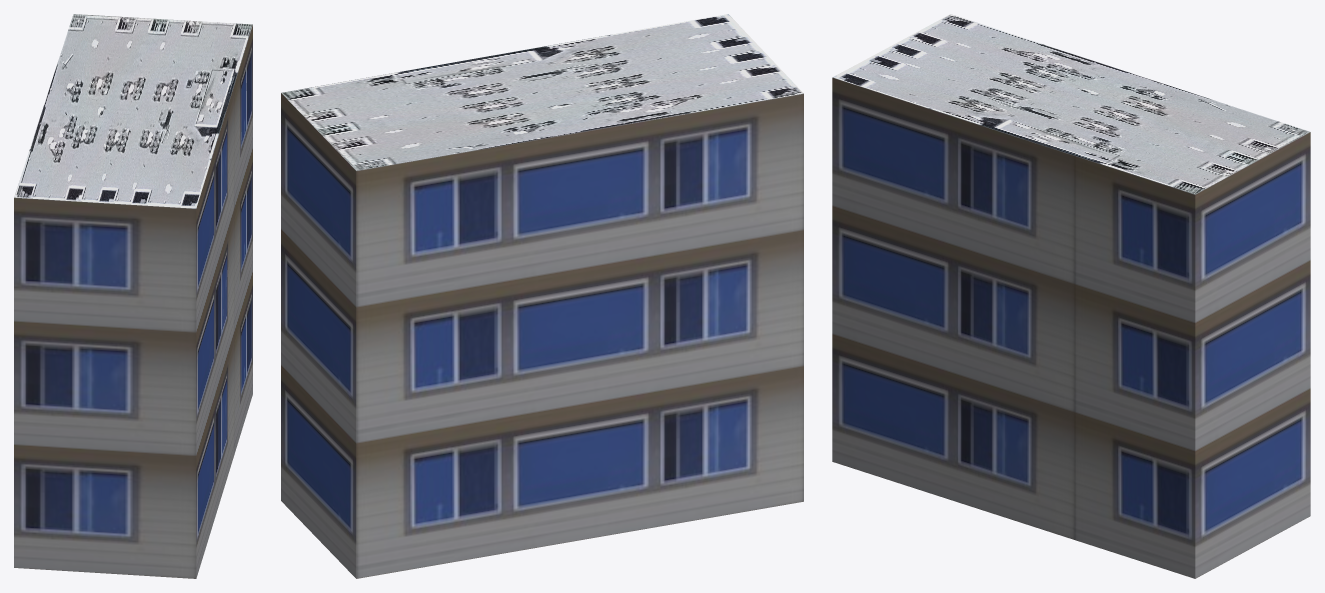
Rendered from ResTex__1960.fbx.
3 renders of one model, left to right at view 1: azimuth 30°, elevation 25°; view 2: azimuth 150°, elevation 25°; view 3: azimuth 270°, elevation 25°, orthographic. The views are drawn at different scales.
Visible parts, largest first — view 1: CityEngineMaterial_23_m, CityEngineMaterial_8_m; view 2: CityEngineMaterial_23_m, CityEngineMaterial_8_m; view 3: CityEngineMaterial_23_m, CityEngineMaterial_8_m.
Part boxes in pixels (bbox=[...]): CityEngineMaterial_23_m: bbox=[14, 25, 252, 578]; CityEngineMaterial_8_m: bbox=[14, 14, 252, 208]; CityEngineMaterial_23_m: bbox=[281, 93, 803, 578]; CityEngineMaterial_8_m: bbox=[281, 14, 803, 170]; CityEngineMaterial_23_m: bbox=[832, 77, 1310, 578]; CityEngineMaterial_8_m: bbox=[832, 14, 1309, 194].
Size of the model in its own units: 9.07 by 9 by 10.15.
Materials: 2 (2 with a texture image).
